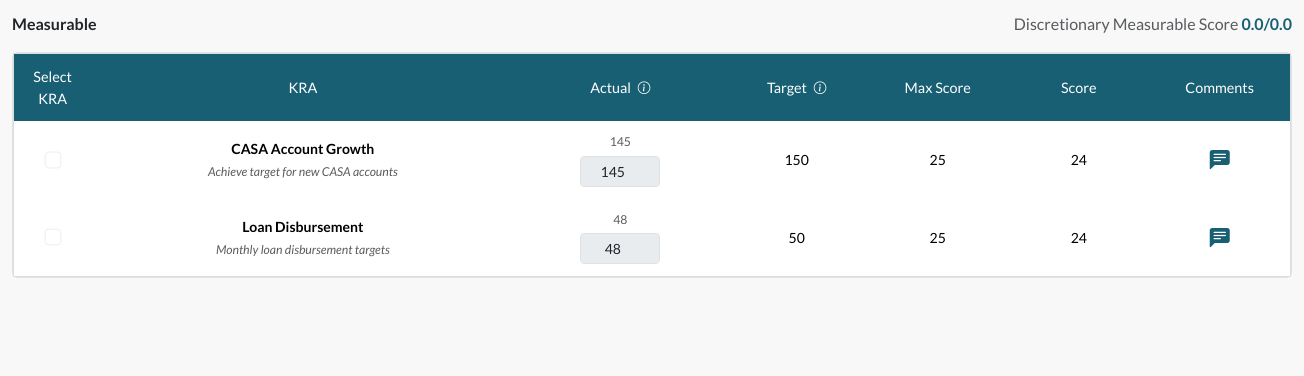
Test: AppealKRASection Component › Measurable KRAs › toggles comment visibility
This screenshot has width=1304, height=376.
Click the button named "Show comment" in the row of "CASA Account Growth" at [1220, 160], box [1195,138,1245,182]
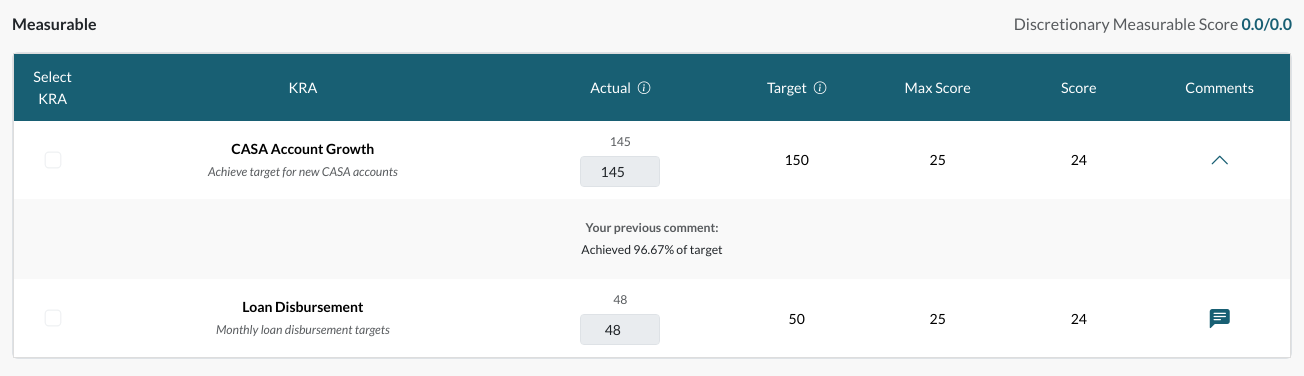
expect the text "Your previous comment:" is shown: met, box [586,220,718,235]
expect the text "Achieved 96.67% of target" is shown: met, box [581,242,723,257]
